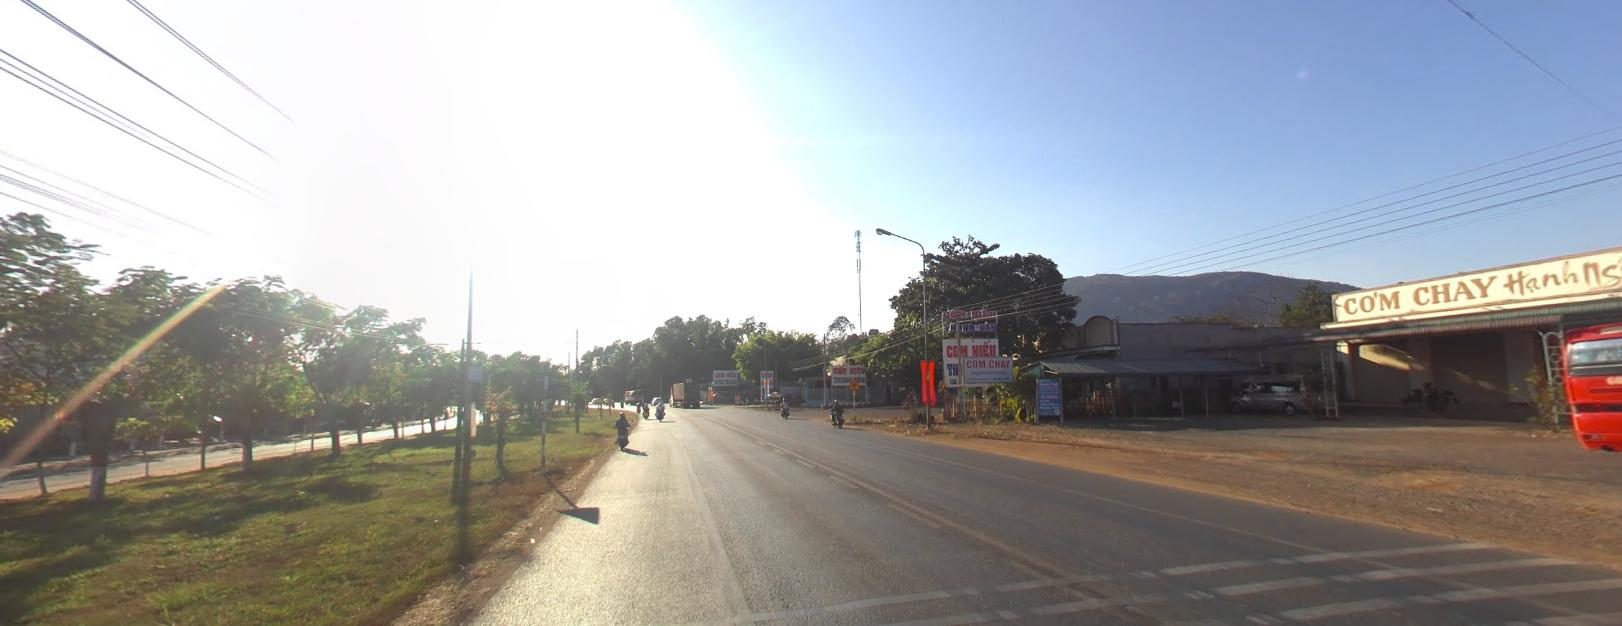Nguy hiem: (848, 375, 861, 388)
